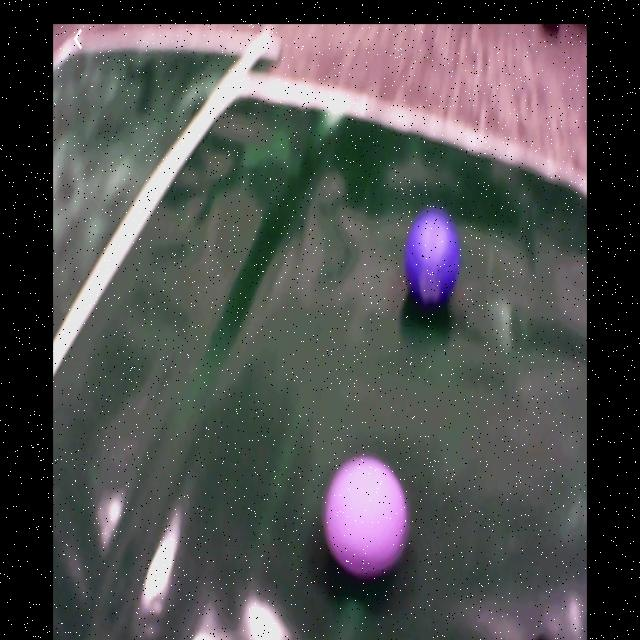ball: (324, 454, 408, 581), (405, 209, 462, 304)
